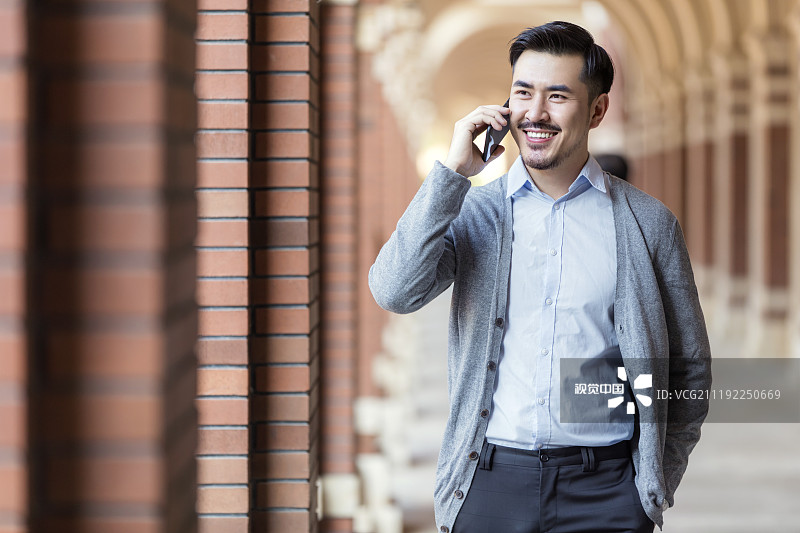calling: (442, 82, 516, 179)
